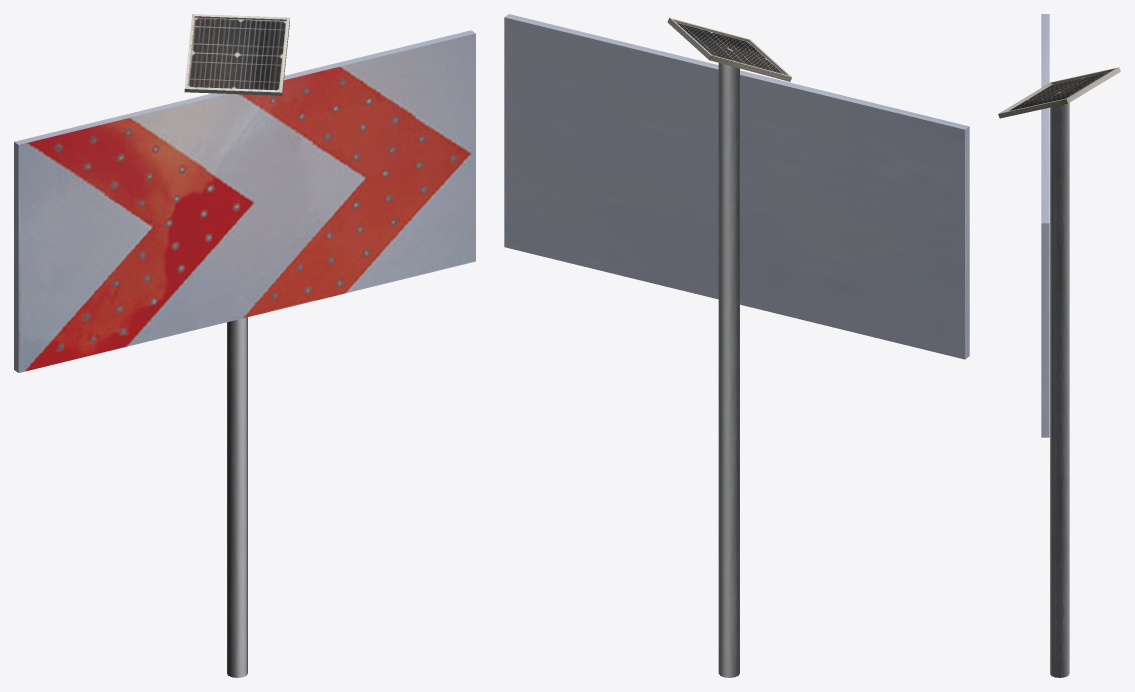
3 views of the same model, side by side, from view 1: azimuth 30°, elevation 25°; view 2: azimuth 150°, elevation 25°; view 3: azimuth 270°, elevation 25° (orthographic). The views are drawn at different scales.
Parts seen in each view (by area): view 1: MainBuilding; view 2: MainBuilding; view 3: MainBuilding.
Part boxes in pixels (bbox=[...]): MainBuilding: bbox=[14, 14, 475, 677]; MainBuilding: bbox=[504, 14, 969, 677]; MainBuilding: bbox=[998, 14, 1120, 677].
Size of the model in its own units: 1.26 by 1.68 by 0.3119.
Materials: 1 (1 with a texture image).
